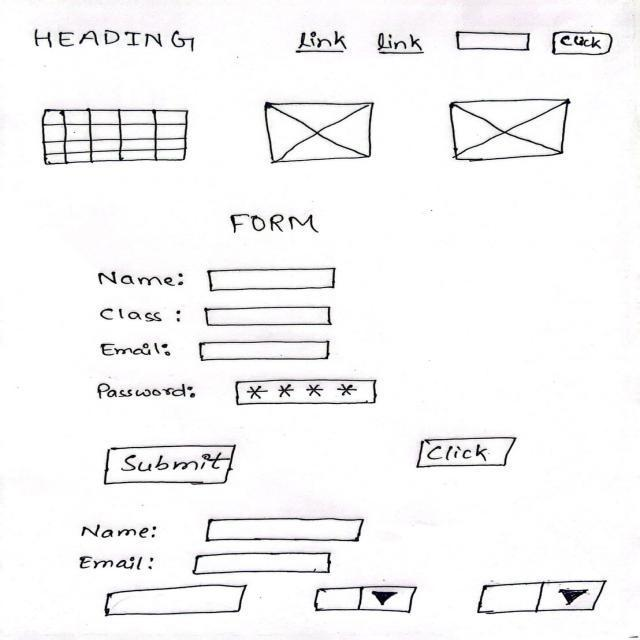table: (28, 101, 199, 180)
textbox: (204, 512, 373, 546), (95, 585, 268, 616), (182, 549, 345, 578), (196, 337, 333, 367), (204, 267, 346, 295), (201, 304, 345, 328), (448, 25, 538, 60)
